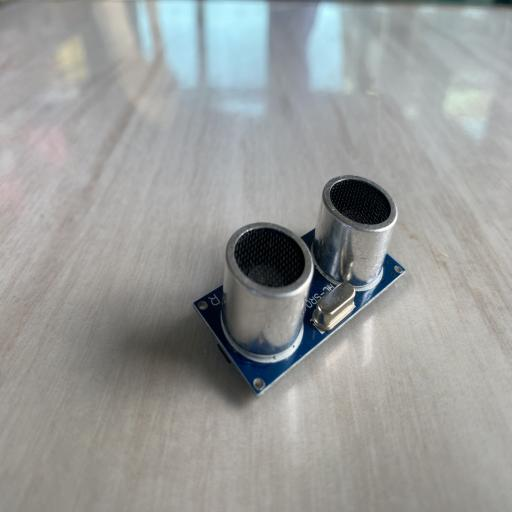Ultrasonic Sensor: (191, 174, 407, 399)
